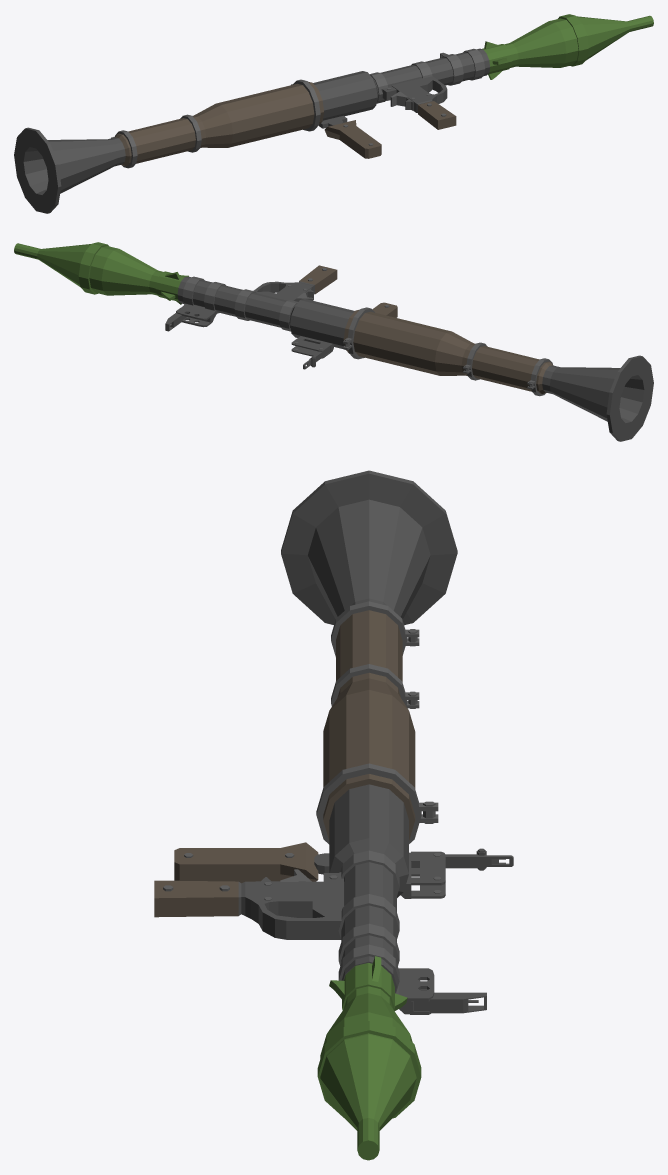
The model's file is RPG-7.fbx.
3 views of the same model, one above another, from view 1: azimuth 30°, elevation 25°; view 2: azimuth 150°, elevation 25°; view 3: azimuth 270°, elevation 25° (orthographic). The views are drawn at different scales.
Visible parts, largest first — view 1: Plane, Cylinder.004; view 2: Plane, Cylinder.004; view 3: Plane, Cylinder.004.
Boxes of the visible parts, x1,y1,x2,y2 form: Plane: (14,48,489,213); Cylinder.004: (482,14,653,79); Plane: (165,265,653,441); Cylinder.004: (14,242,188,304); Plane: (154,470,513,1014); Cylinder.004: (317,956,421,1160).
Bounding box in the file's own units: 966 × 120 × 244.
